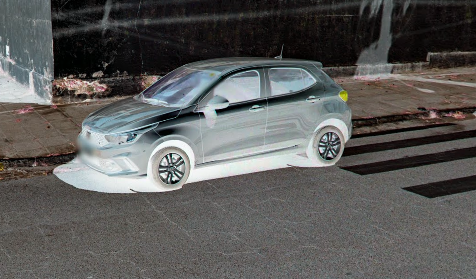car: (75, 41, 357, 189)
